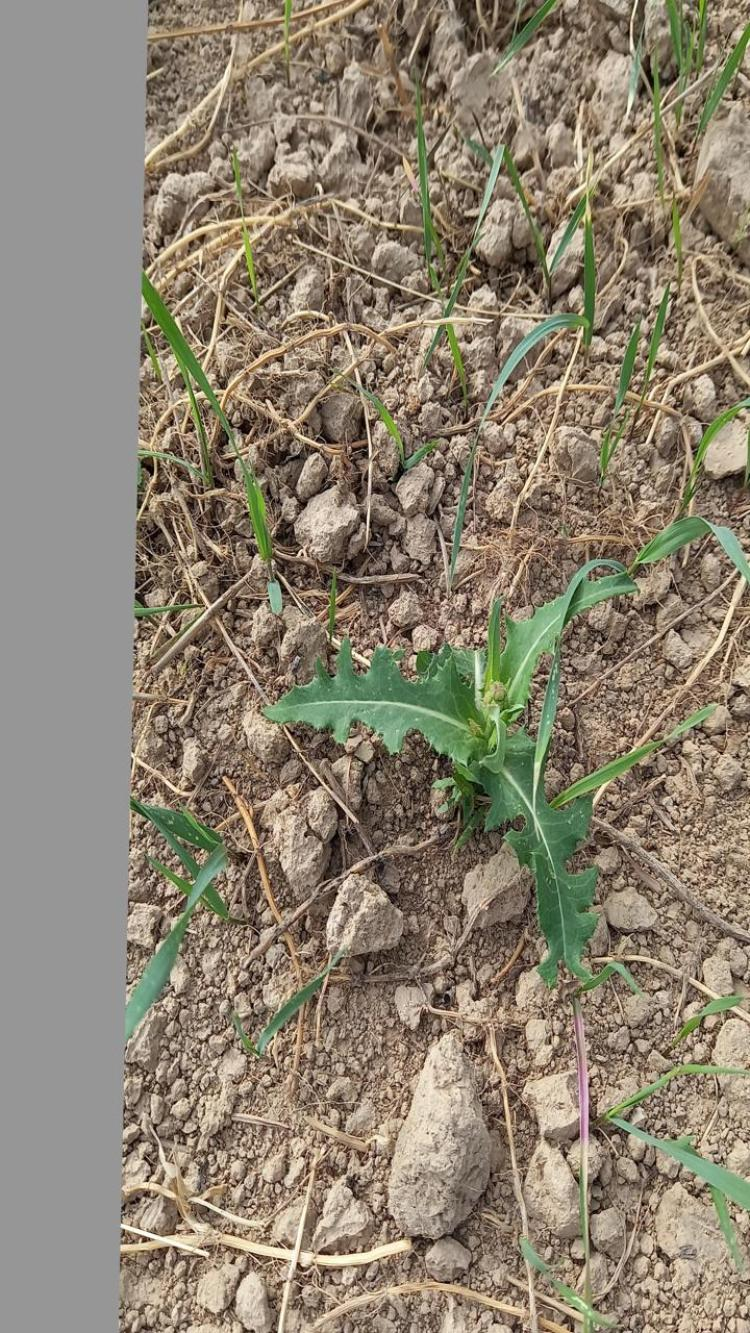bodyak: (304, 566, 646, 968)
